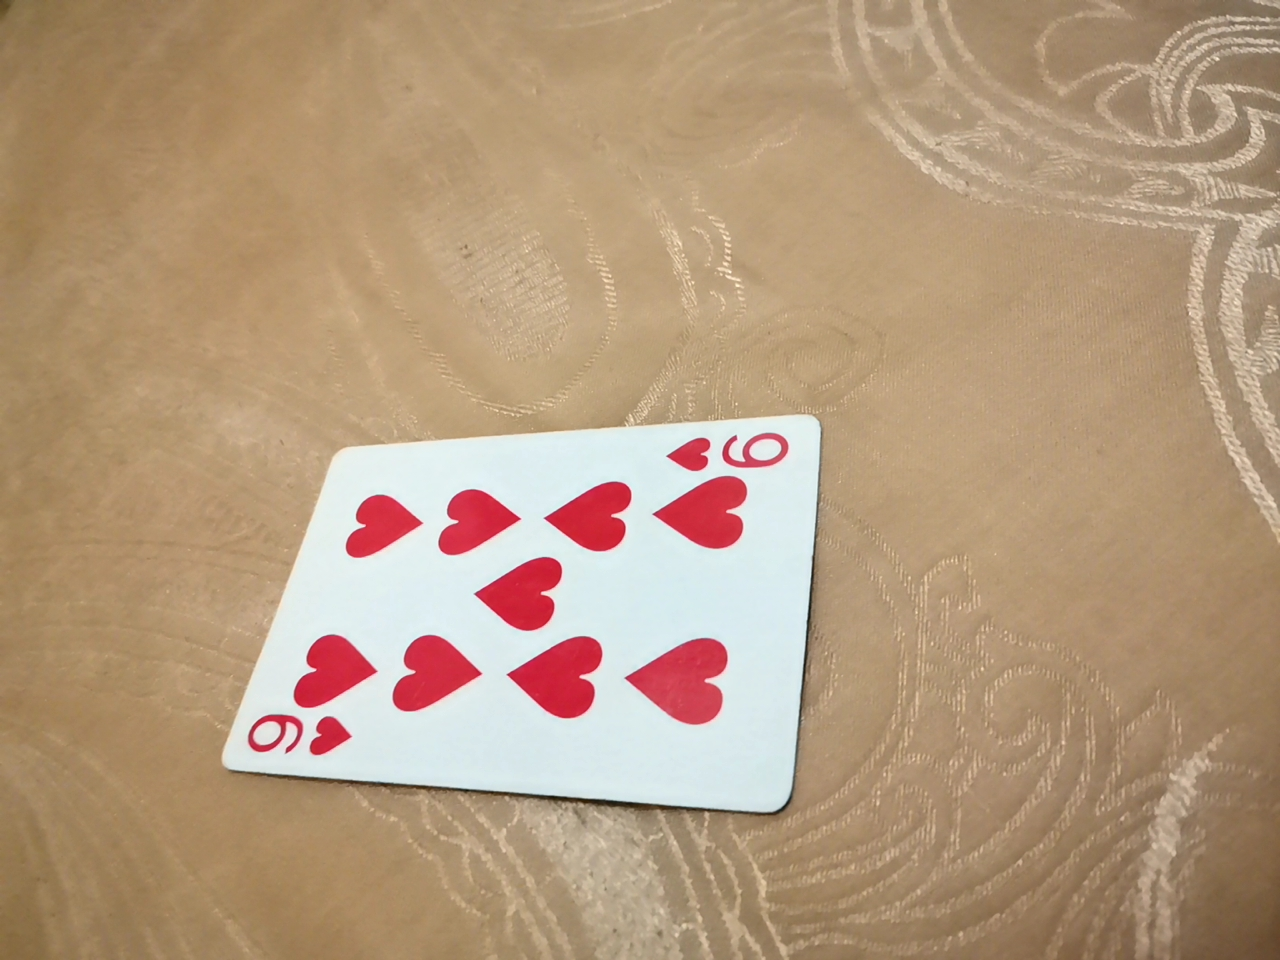hx 9: (271, 388, 833, 791)
